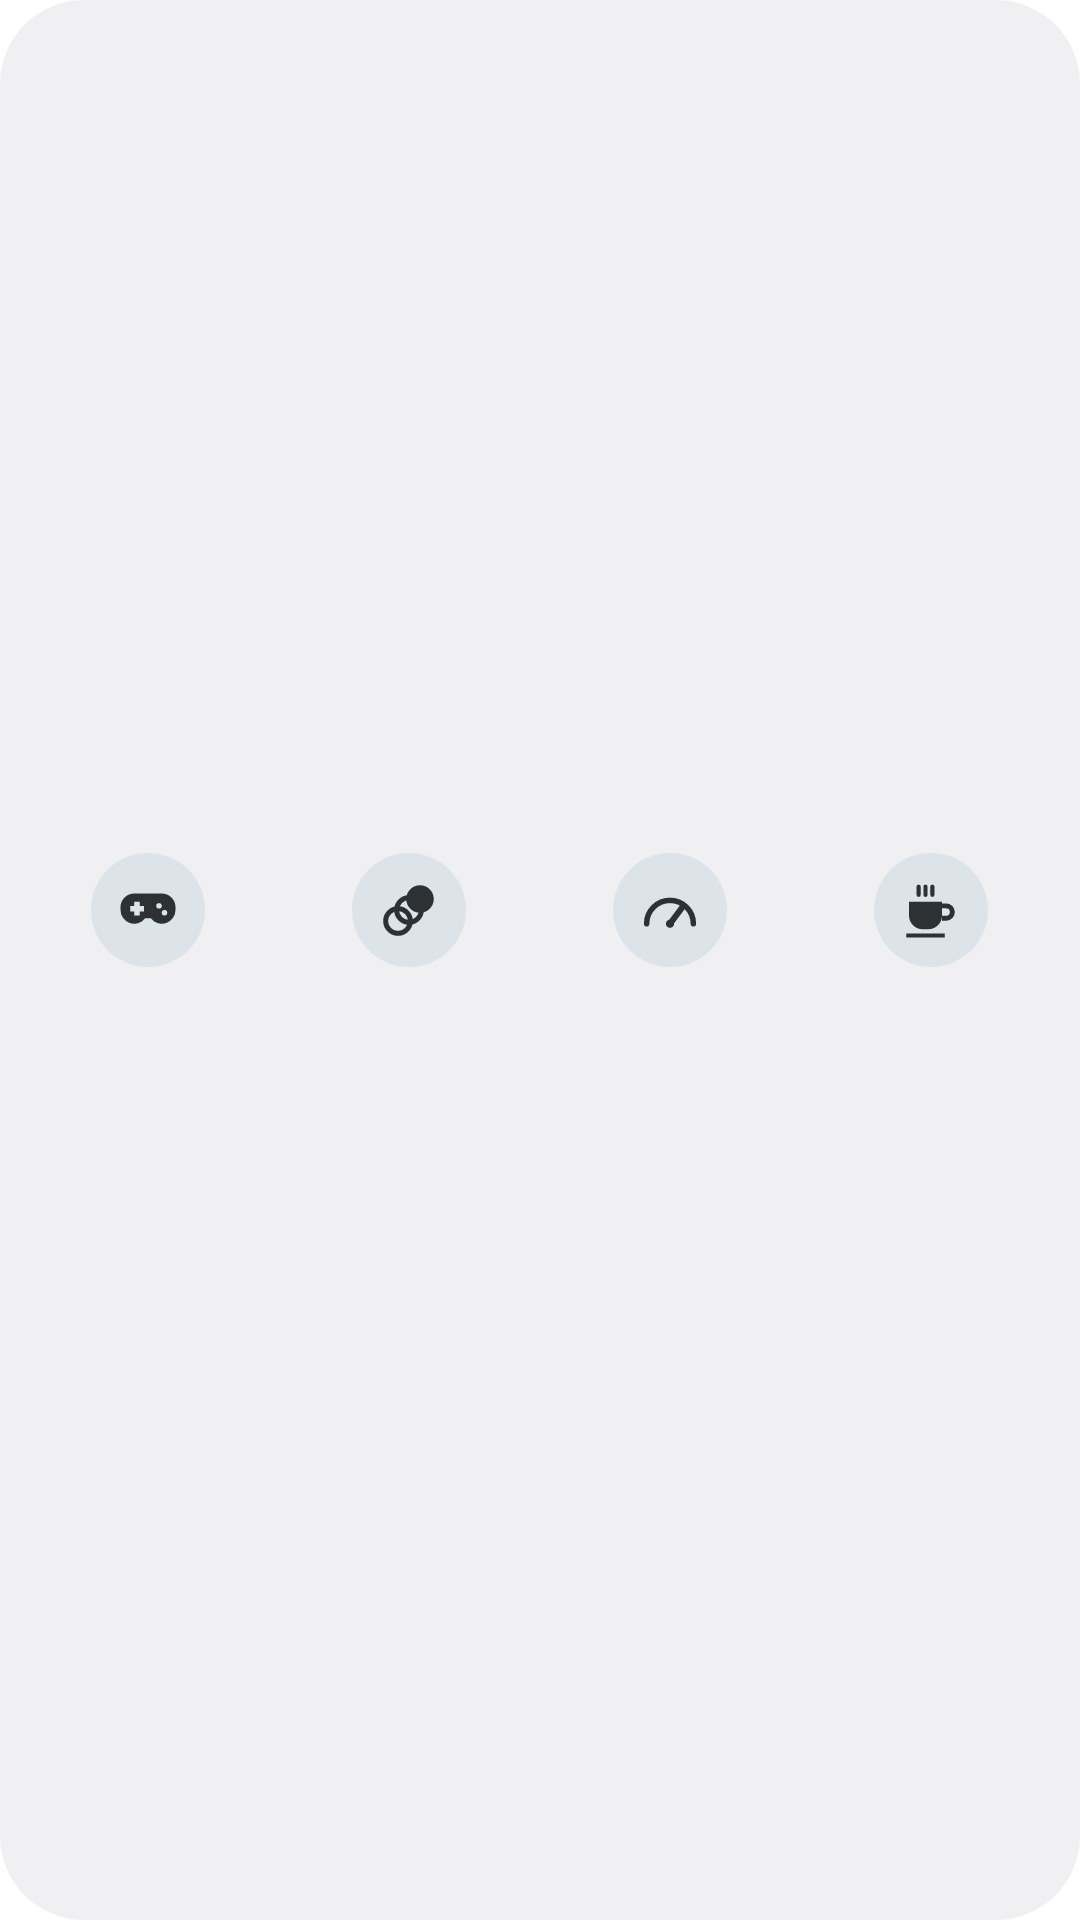

Where icons sit on this 1080x1920 app screen, as (x1, y1, x2, y2):
tile animation: (383, 885, 434, 936)
tile coffee: (906, 884, 955, 938)
tile gaming: (120, 893, 176, 924)
